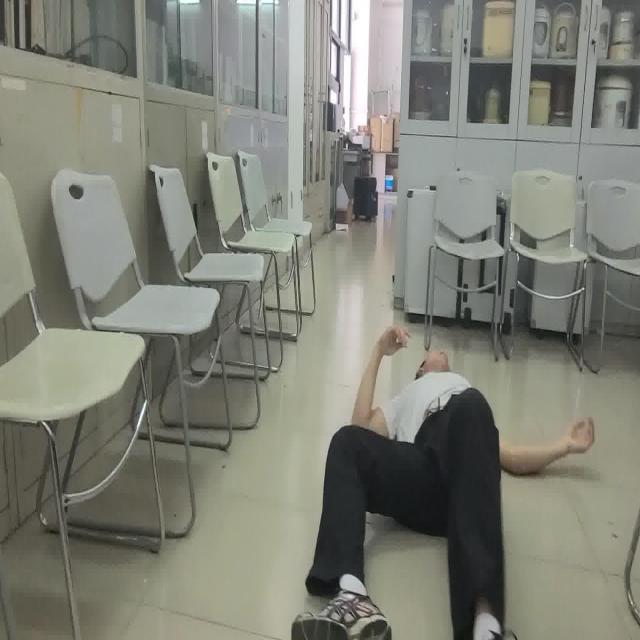fall: (290, 322, 598, 640)
